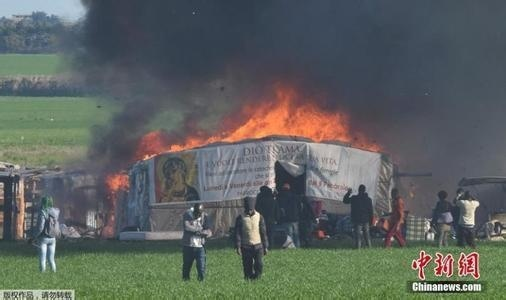fire: (116, 85, 377, 151), (106, 171, 130, 190)
